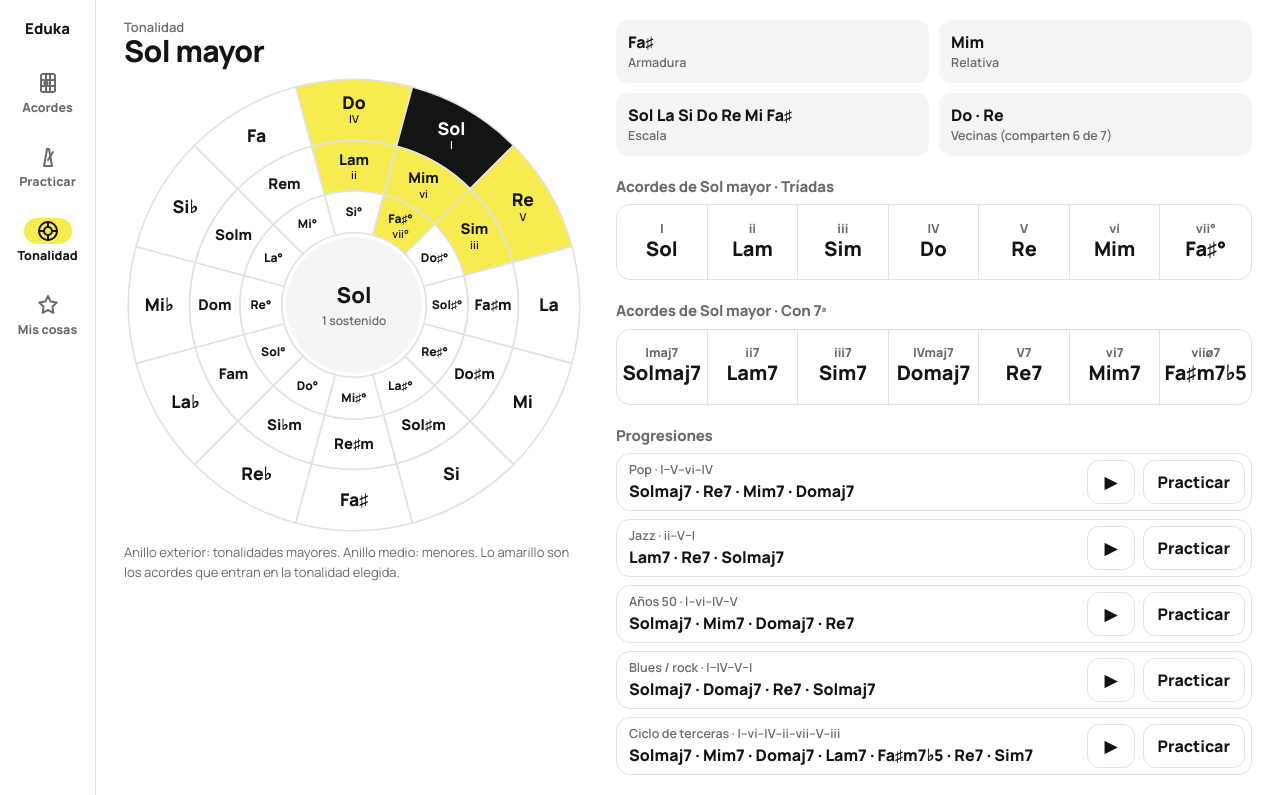
Test case: pantalla Tonalidad › "Practicar" en Pop navega a #/practicar con 4 acordes
Click the button "Practicar" in the row of "Pop": click(1194, 482) [1143,460,1245,504]
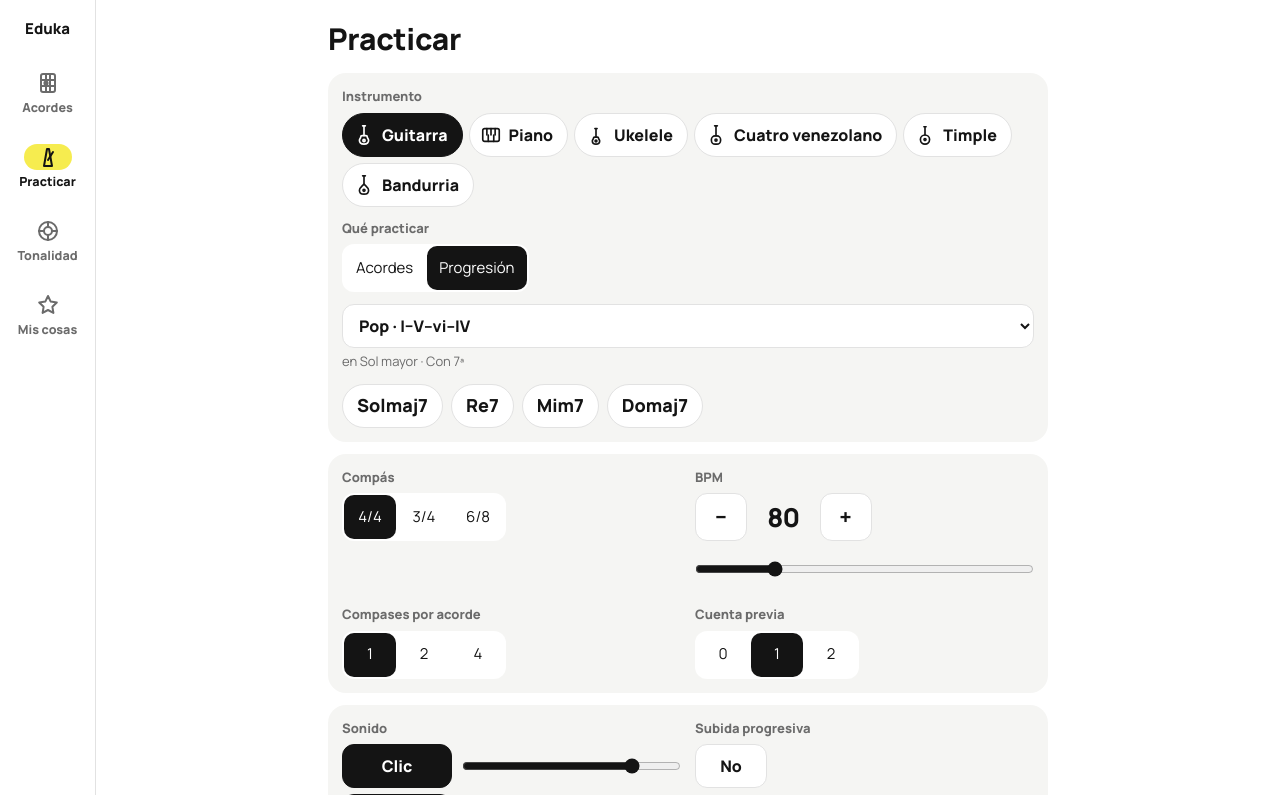
Expected: the list items read "Solmaj7", "Re7", "Mim7", "Domaj7", in this order, [342,384,443,428]; [451,384,514,428]; [522,384,599,428]; [607,384,703,428]
